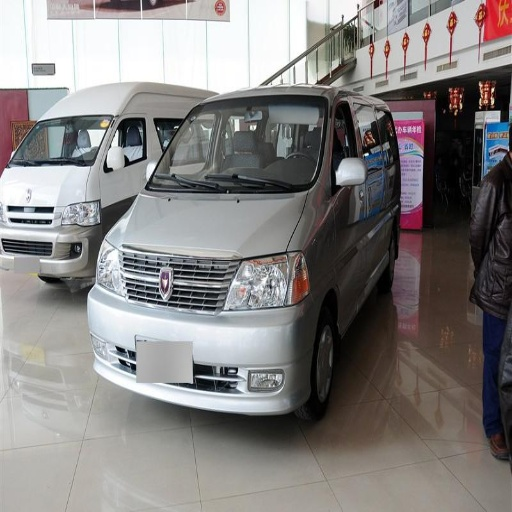front_bumper: (91, 251, 318, 415), (2, 185, 52, 255)
front_glass: (147, 98, 325, 192)
front_left_door: (330, 102, 373, 296)
front_right_light: (97, 242, 128, 295)
